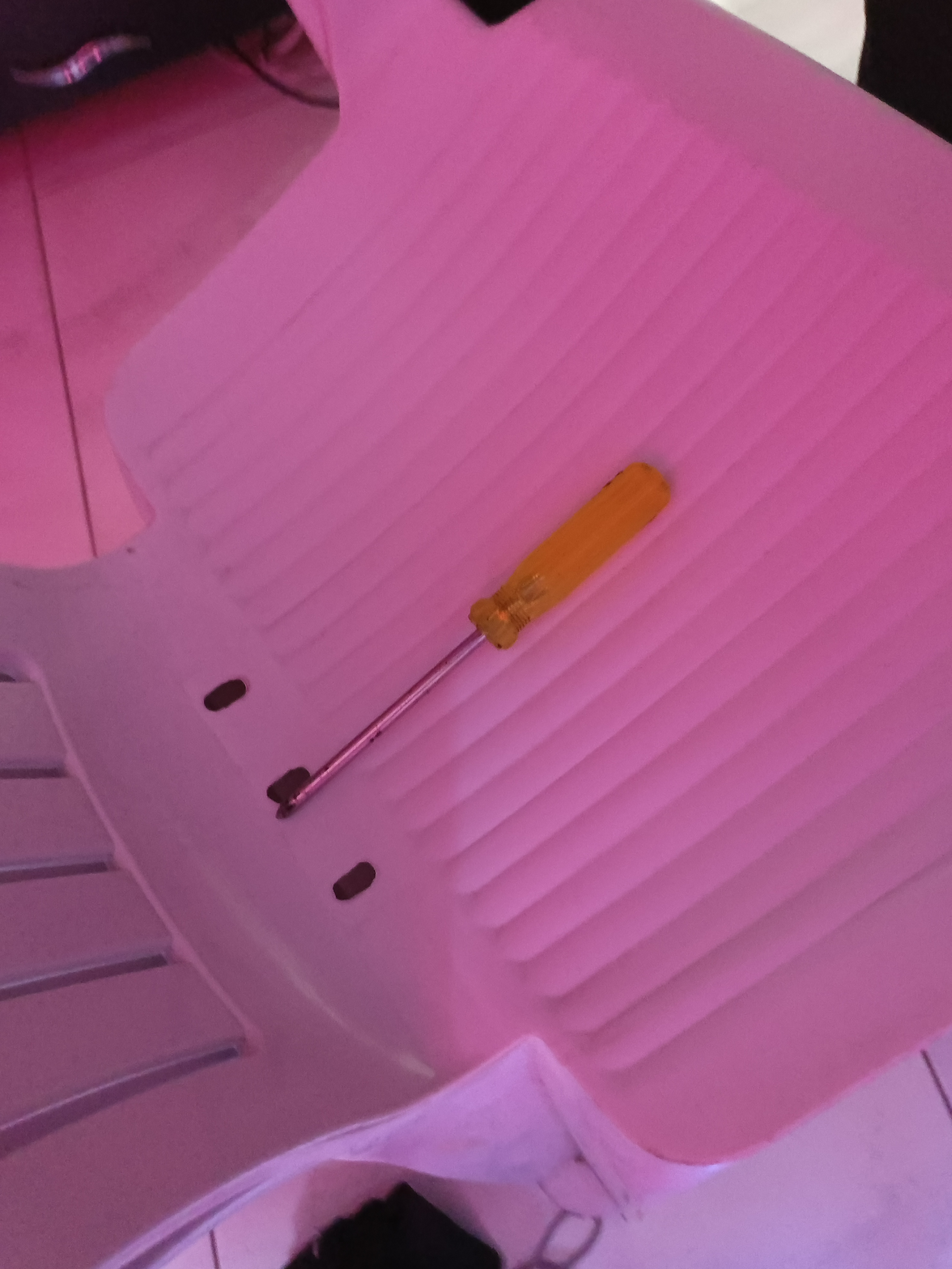Destornillador: (278, 463, 670, 817)
